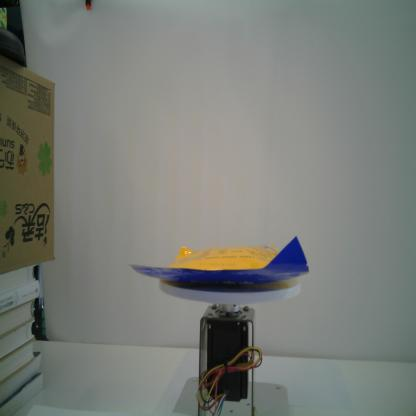Dried Fruit: (129, 235, 309, 285)
